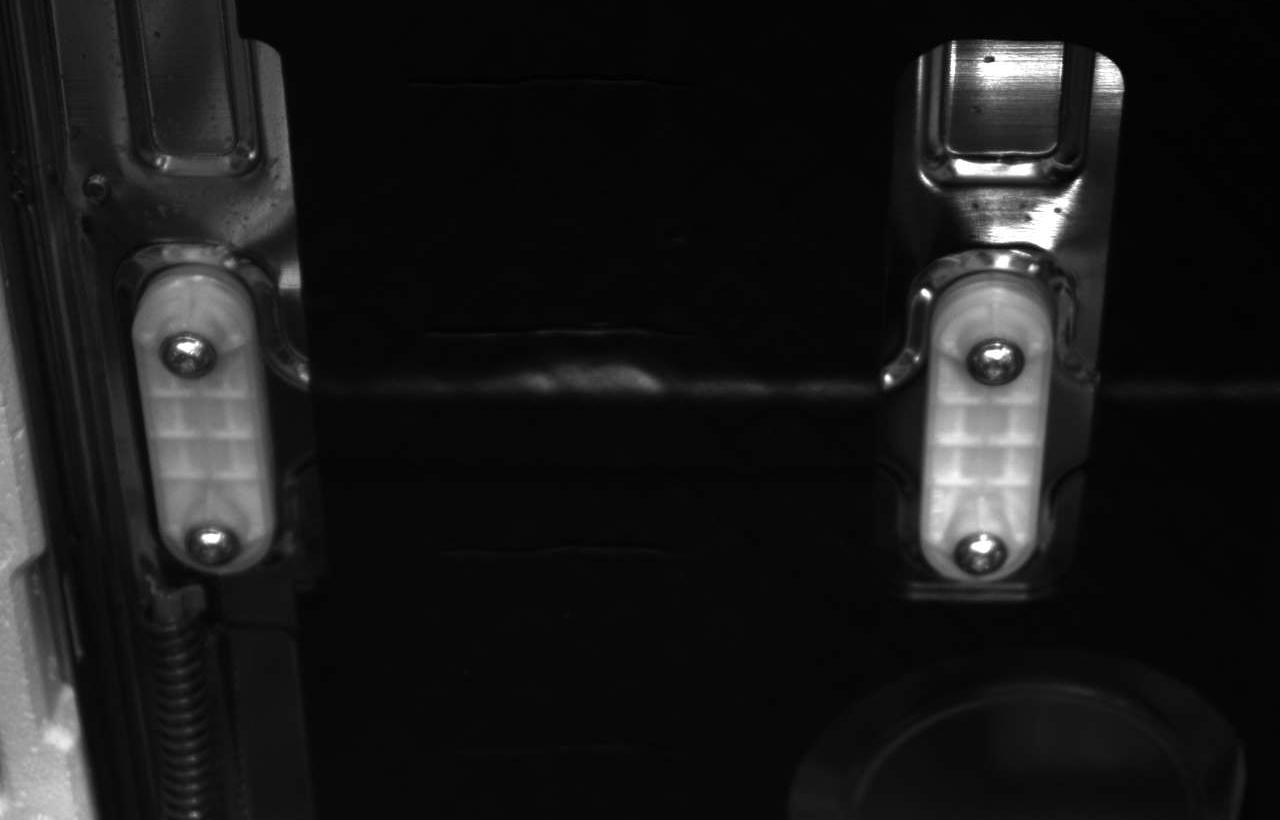vida-ok: (157, 317, 229, 384), (959, 327, 1026, 394), (949, 512, 1014, 581), (180, 515, 246, 574)
